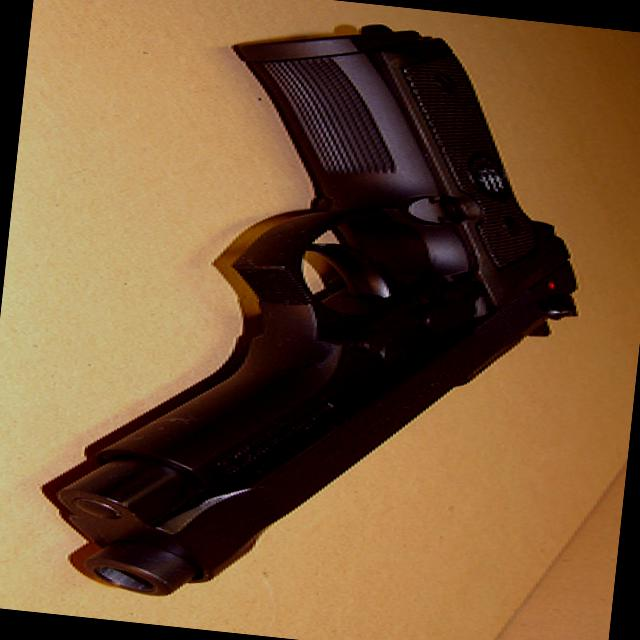handgun: (36, 0, 632, 638)
